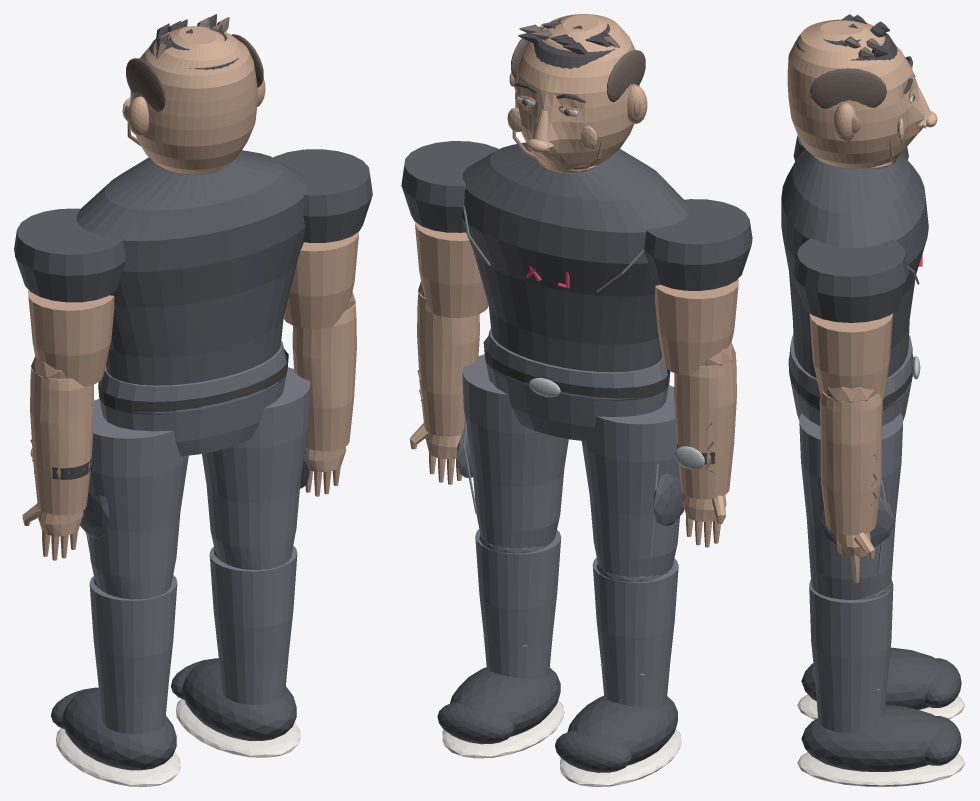
The model's file is character.glb.
The picture shows the model from 3 angles, left to right: view 1: azimuth 30°, elevation 25°; view 2: azimuth 150°, elevation 25°; view 3: azimuth 270°, elevation 25°; orthographic projection. The views are drawn at different scales.
Visible parts, largest first — view 1: urban_shirt_body, thigh_Left, thigh_Right, face_sculpt, shin_Right, shin_Left, tailored_hips, shirt_sleeve_Left, forearm_Left, forearm_Right, shirt_sleeve_Right, upper_arm_Left (+11 smaller); view 2: urban_shirt_body, thigh_Right, thigh_Left, face_sculpt, shin_Left, shin_Right, tailored_hips, shirt_sleeve_Left, forearm_Left, forearm_Right, upper_arm_Left, shirt_sleeve_Right (+13 smaller); view 3: urban_shirt_body, face_sculpt, shin_Right, forearm_Right, shirt_sleeve_Right, thigh_Right, shoe_upper_Right, upper_arm_Right, shoe_upper_Left, sole_Right, hair_fade_right, tailored_hips (+9 smaller).
Part boxes in pixels (left/top/right/bottom): urban_shirt_body: left=76, top=150, right=307, bottom=385; thigh_Left: left=88, top=398, right=188, bottom=599; thigh_Right: left=202, top=367, right=310, bottom=569; face_sculpt: left=130, top=26, right=257, bottom=174; shin_Right: left=209, top=546, right=297, bottom=704; shin_Left: left=89, top=575, right=177, bottom=734; tailored_hips: left=99, top=341, right=286, bottom=456; shirt_sleeve_Left: left=14, top=208, right=126, bottom=302; forearm_Left: left=30, top=368, right=94, bottom=515; forearm_Right: left=292, top=303, right=356, bottom=451; shirt_sleeve_Right: left=273, top=149, right=372, bottom=242; upper_arm_Left: left=28, top=290, right=114, bottom=386; urban_shirt_body: left=461, top=142, right=688, bottom=372; thigh_Right: left=462, top=354, right=568, bottom=548; thigh_Left: left=581, top=385, right=679, bottom=577; face_sculpt: left=515, top=14, right=639, bottom=172; shin_Left: left=592, top=558, right=678, bottom=707; shin_Right: left=475, top=529, right=561, bottom=679; tailored_hips: left=485, top=329, right=668, bottom=441; shirt_sleeve_Left: left=644, top=199, right=752, bottom=290; forearm_Left: left=674, top=355, right=736, bottom=499; forearm_Right: left=417, top=292, right=479, bottom=436; upper_arm_Left: left=655, top=279, right=738, bottom=375; shirt_sleeve_Right: left=401, top=141, right=498, bottom=232; urban_shirt_body: left=781, top=149, right=928, bottom=378; face_sculpt: left=787, top=20, right=924, bottom=168; shin_Right: left=809, top=580, right=893, bottom=733; forearm_Right: left=819, top=391, right=882, bottom=535; shirt_sleeve_Right: left=793, top=238, right=908, bottom=322; thigh_Right: left=799, top=413, right=902, bottom=599; shoe_upper_Right: left=801, top=705, right=943, bottom=771; upper_arm_Right: left=809, top=313, right=892, bottom=399; shoe_upper_Left: left=801, top=647, right=943, bottom=709; sole_Right: left=797, top=752, right=965, bottom=786; hair_fade_right: left=810, top=68, right=886, bottom=108; tailored_hips: left=789, top=335, right=912, bottom=425.
Size of the model in its own units: 1 by 2.03 by 0.472.
